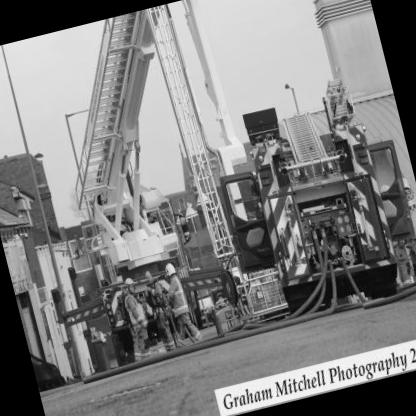truck: (184, 77, 416, 333)
